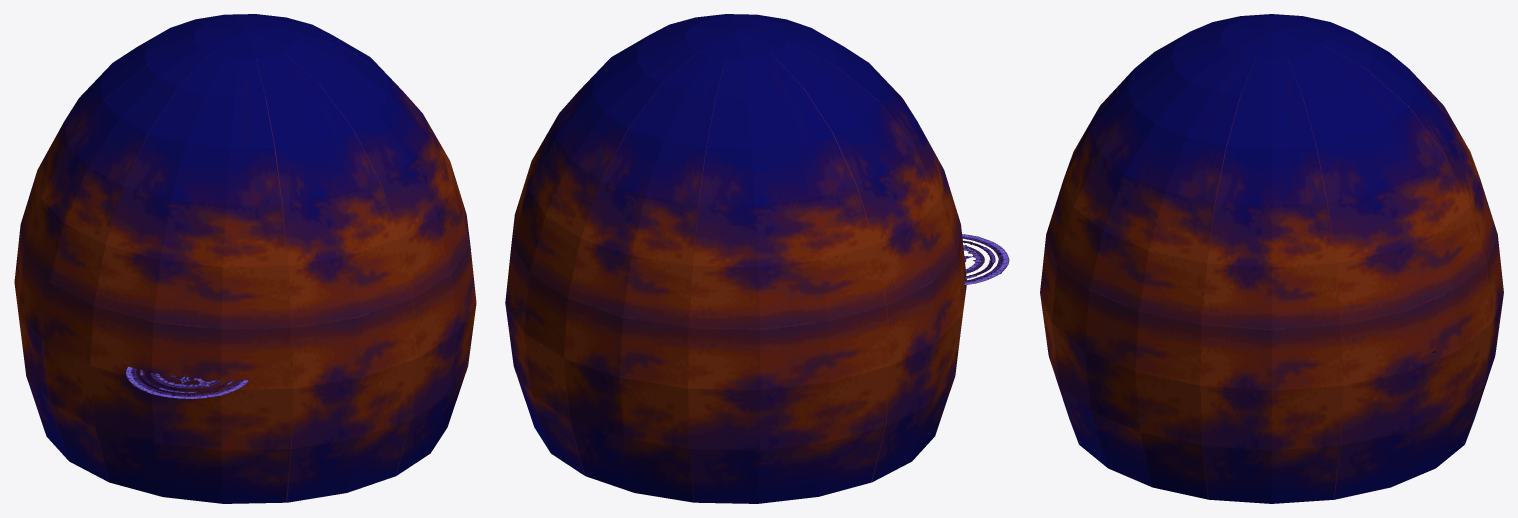
File: MAP102.obj
The picture shows the model from 3 angles, left to right: view 1: azimuth 30°, elevation 25°; view 2: azimuth 150°, elevation 25°; view 3: azimuth 270°, elevation 25°; orthographic projection.
Parts seen in each view (by area): view 1: mesh_3, mesh_2, mesh_0; view 2: mesh_3, mesh_2; view 3: mesh_3.
Boxes of the visible parts, bbox=[...] form: mesh_3: bbox=[14, 14, 476, 503]; mesh_2: bbox=[125, 366, 248, 398]; mesh_0: bbox=[150, 373, 221, 388]; mesh_3: bbox=[505, 14, 966, 503]; mesh_2: bbox=[962, 234, 1009, 284]; mesh_3: bbox=[1040, 14, 1503, 503].
Size of the model in its own units: 600 by 553 by 600.
Materials: 7 (7 with a texture image).
